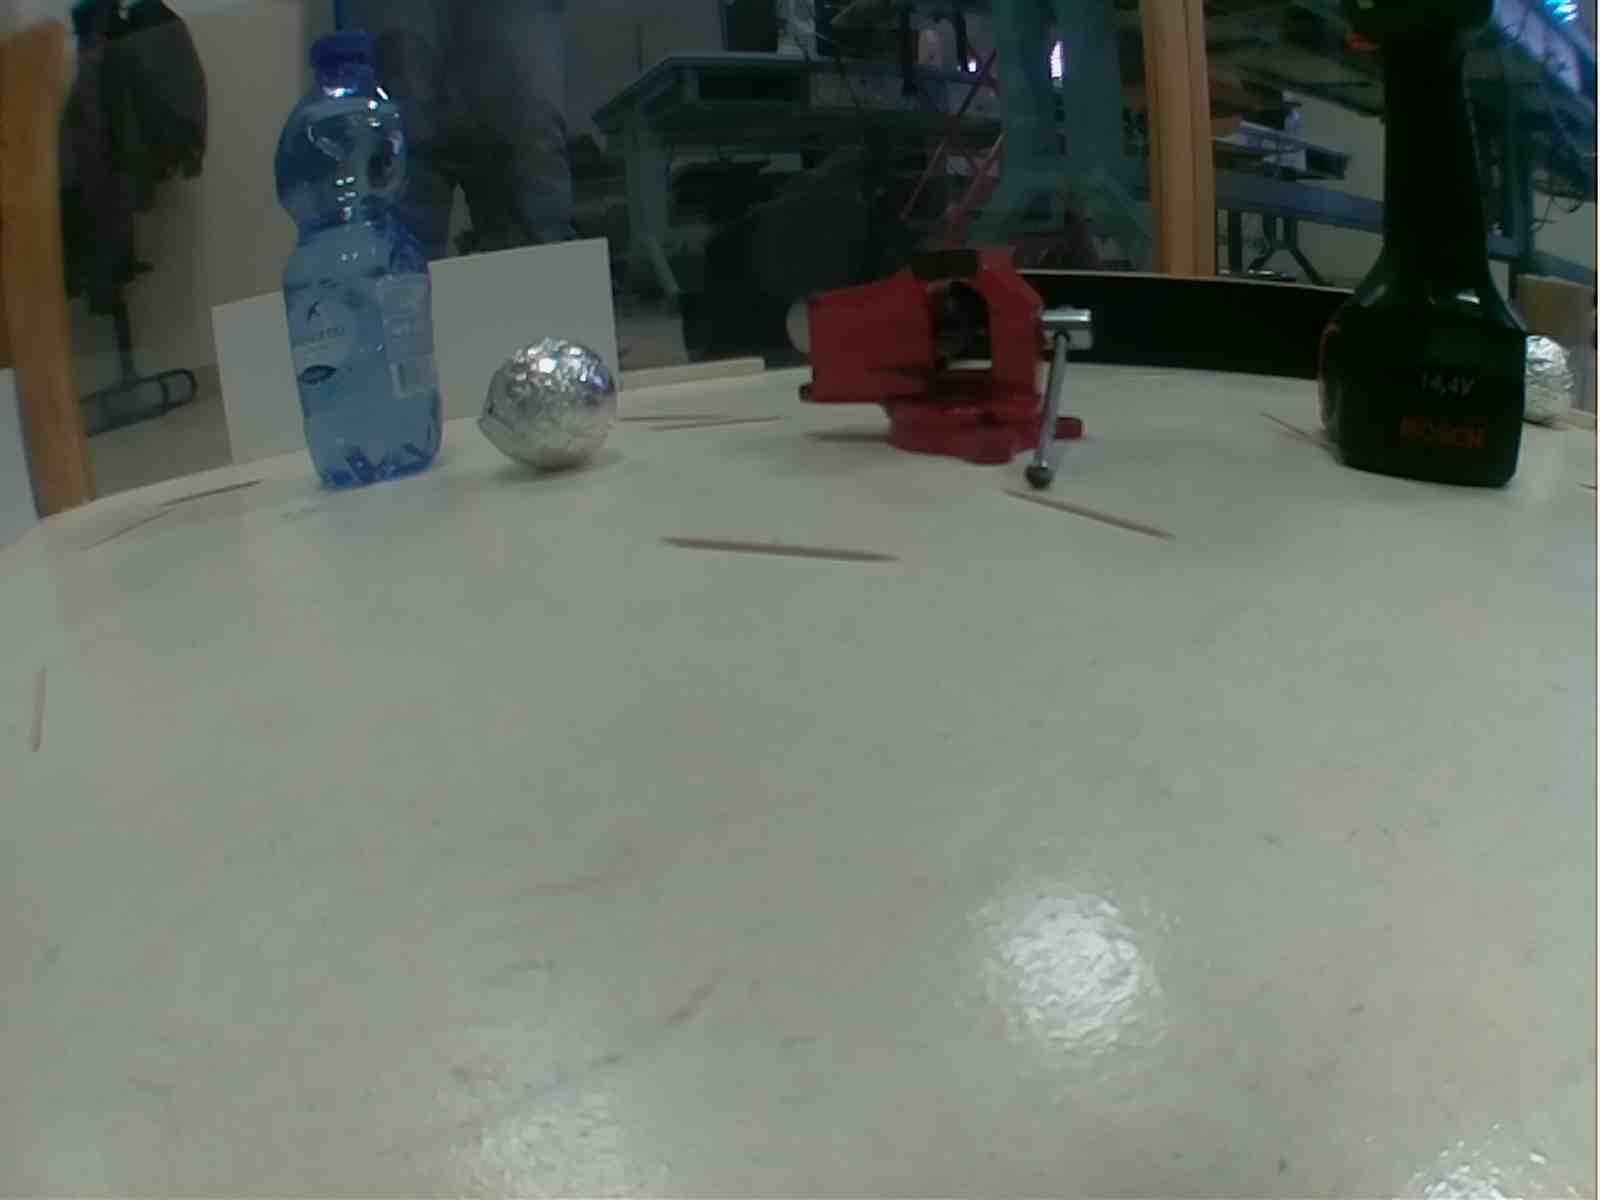bianca: (471, 337, 621, 478), (1518, 330, 1579, 429)
